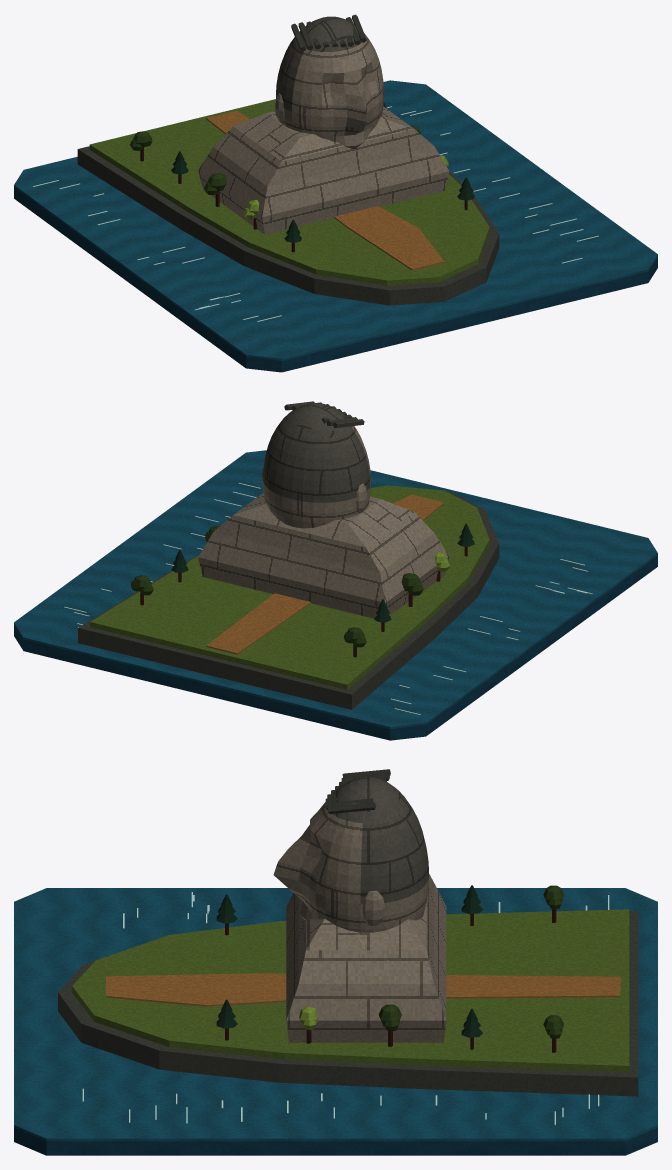
The model's file is orange-isle.glb.
3 views of the same model, one above another, from view 1: azimuth 30°, elevation 25°; view 2: azimuth 150°, elevation 25°; view 3: azimuth 270°, elevation 25° (orthographic). The views are drawn at different scales.
Visible parts, largest first — view 1: 长沙橘子洲; view 2: 长沙橘子洲; view 3: 长沙橘子洲.
Part boxes in pixels (x1,y1,x2,y2): 长沙橘子洲: [14, 14, 657, 372]; 长沙橘子洲: [14, 401, 657, 740]; 长沙橘子洲: [14, 769, 657, 1155].
Size of the model in its own units: 8.2 by 3.86 by 8.9.
13 materials, 12 textured.
